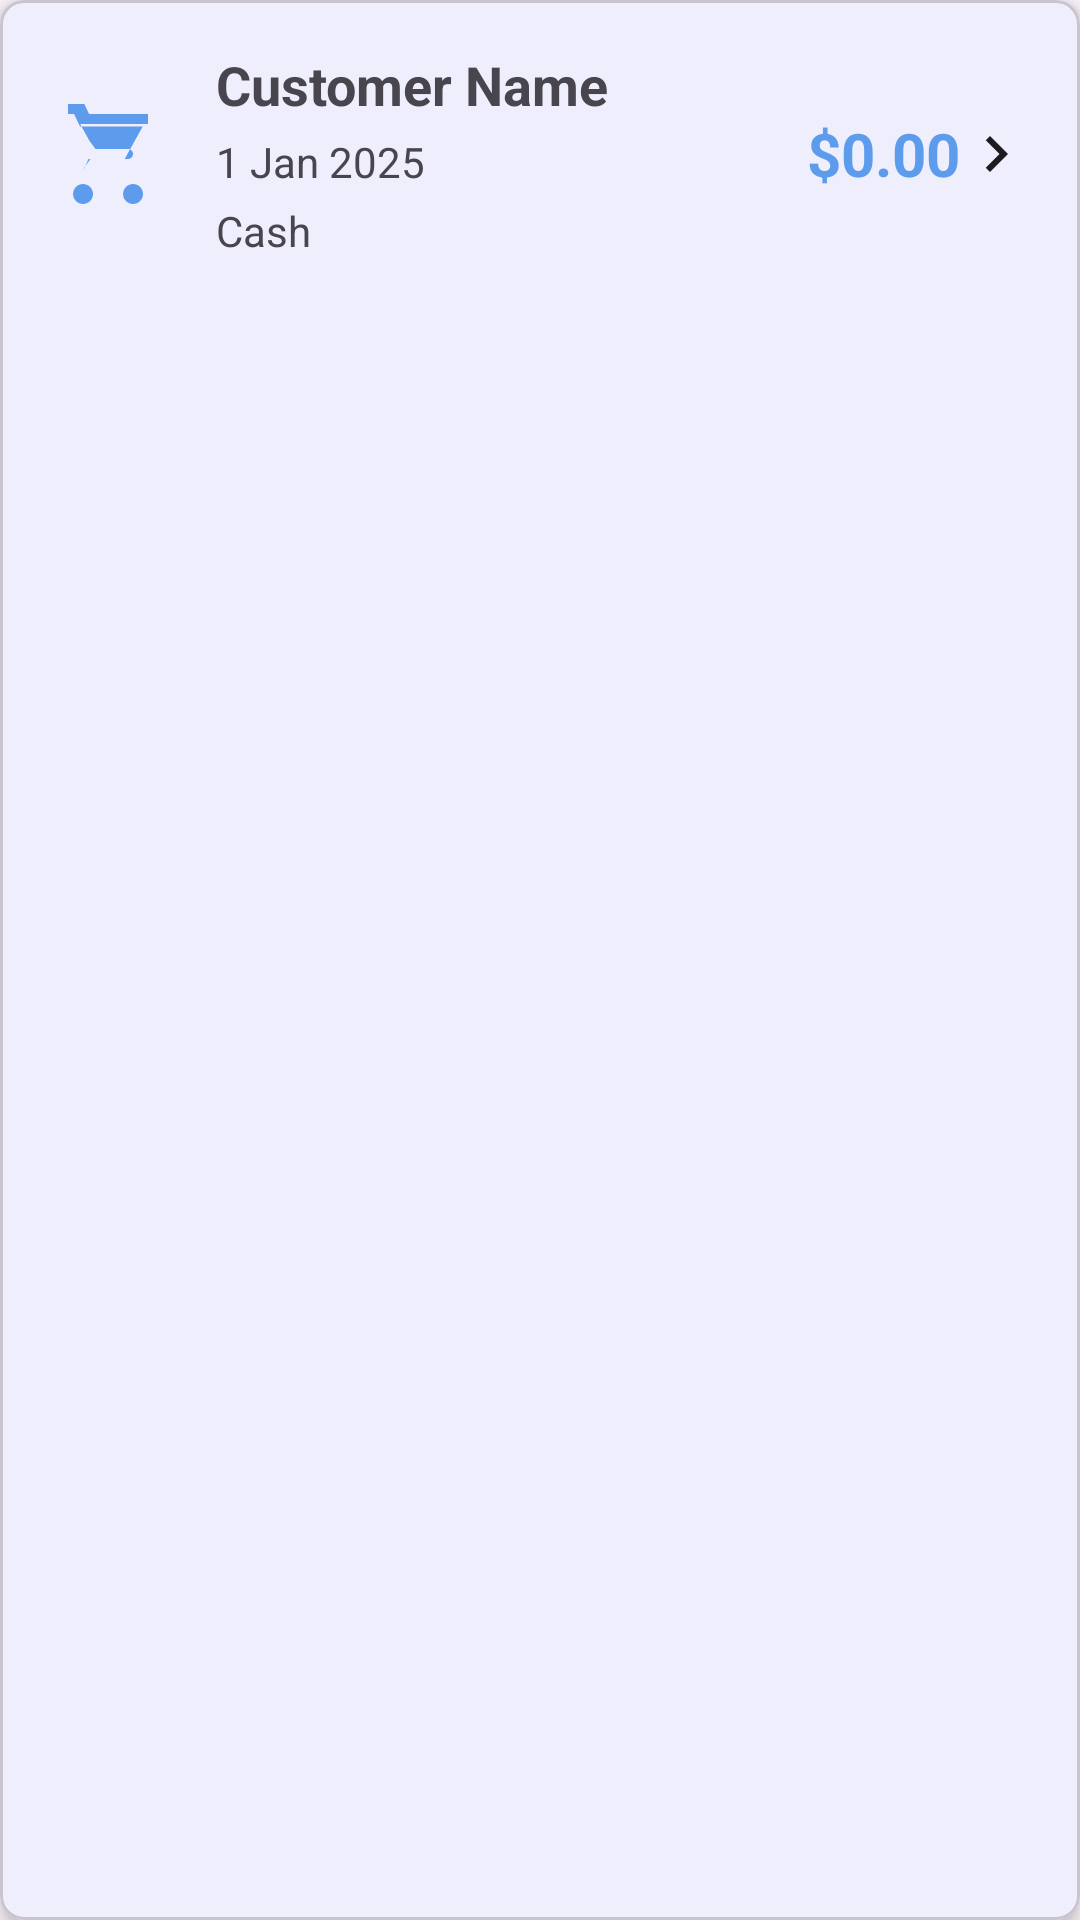

Icons on this 1080 x 1920 Android screen, each with its box as (x1, y1, x2, y2):
chevron right: (986, 136, 1008, 172)
sales: (68, 104, 148, 204)
